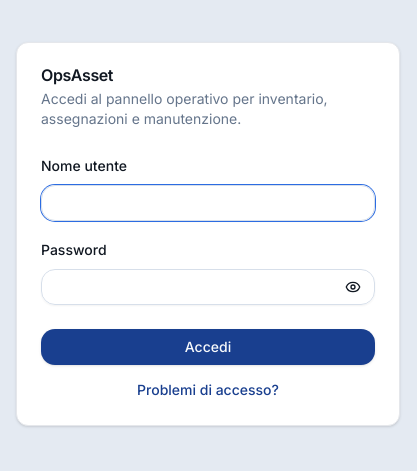
LoginPage › shows validation messages when submitting empty form
Click the button "Accedi". click: x=208, y=347
box: [41, 329, 375, 365]
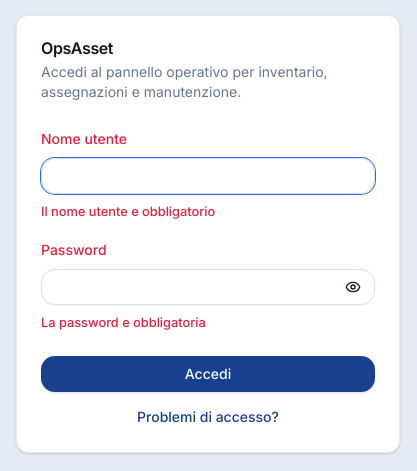
Result: the text "Il nome utente e obbligatorio" is shown at [41, 204, 215, 219]
Result: the text "La password e obbligatoria" is shown at [41, 315, 206, 330]
